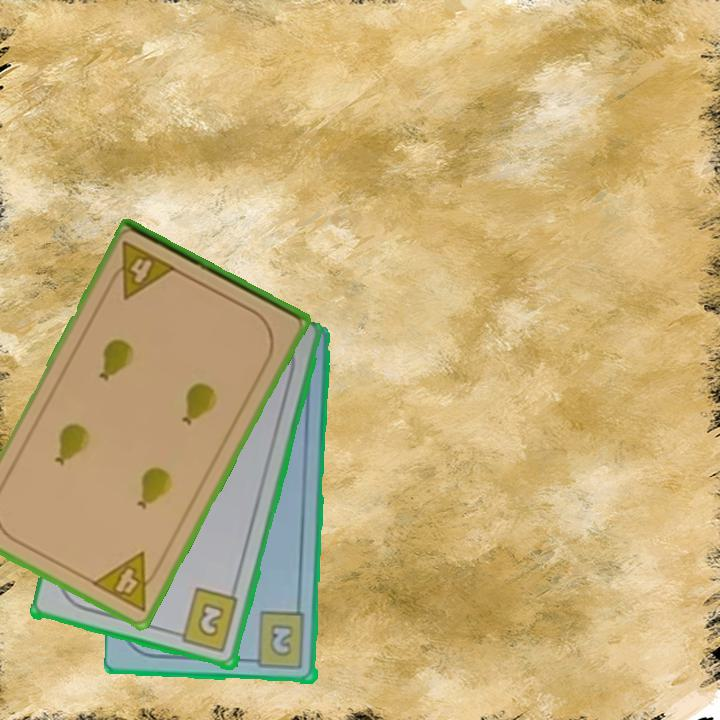2b: (169, 585, 242, 656), (245, 609, 309, 672)
4p: (88, 548, 166, 615), (103, 237, 179, 302)
